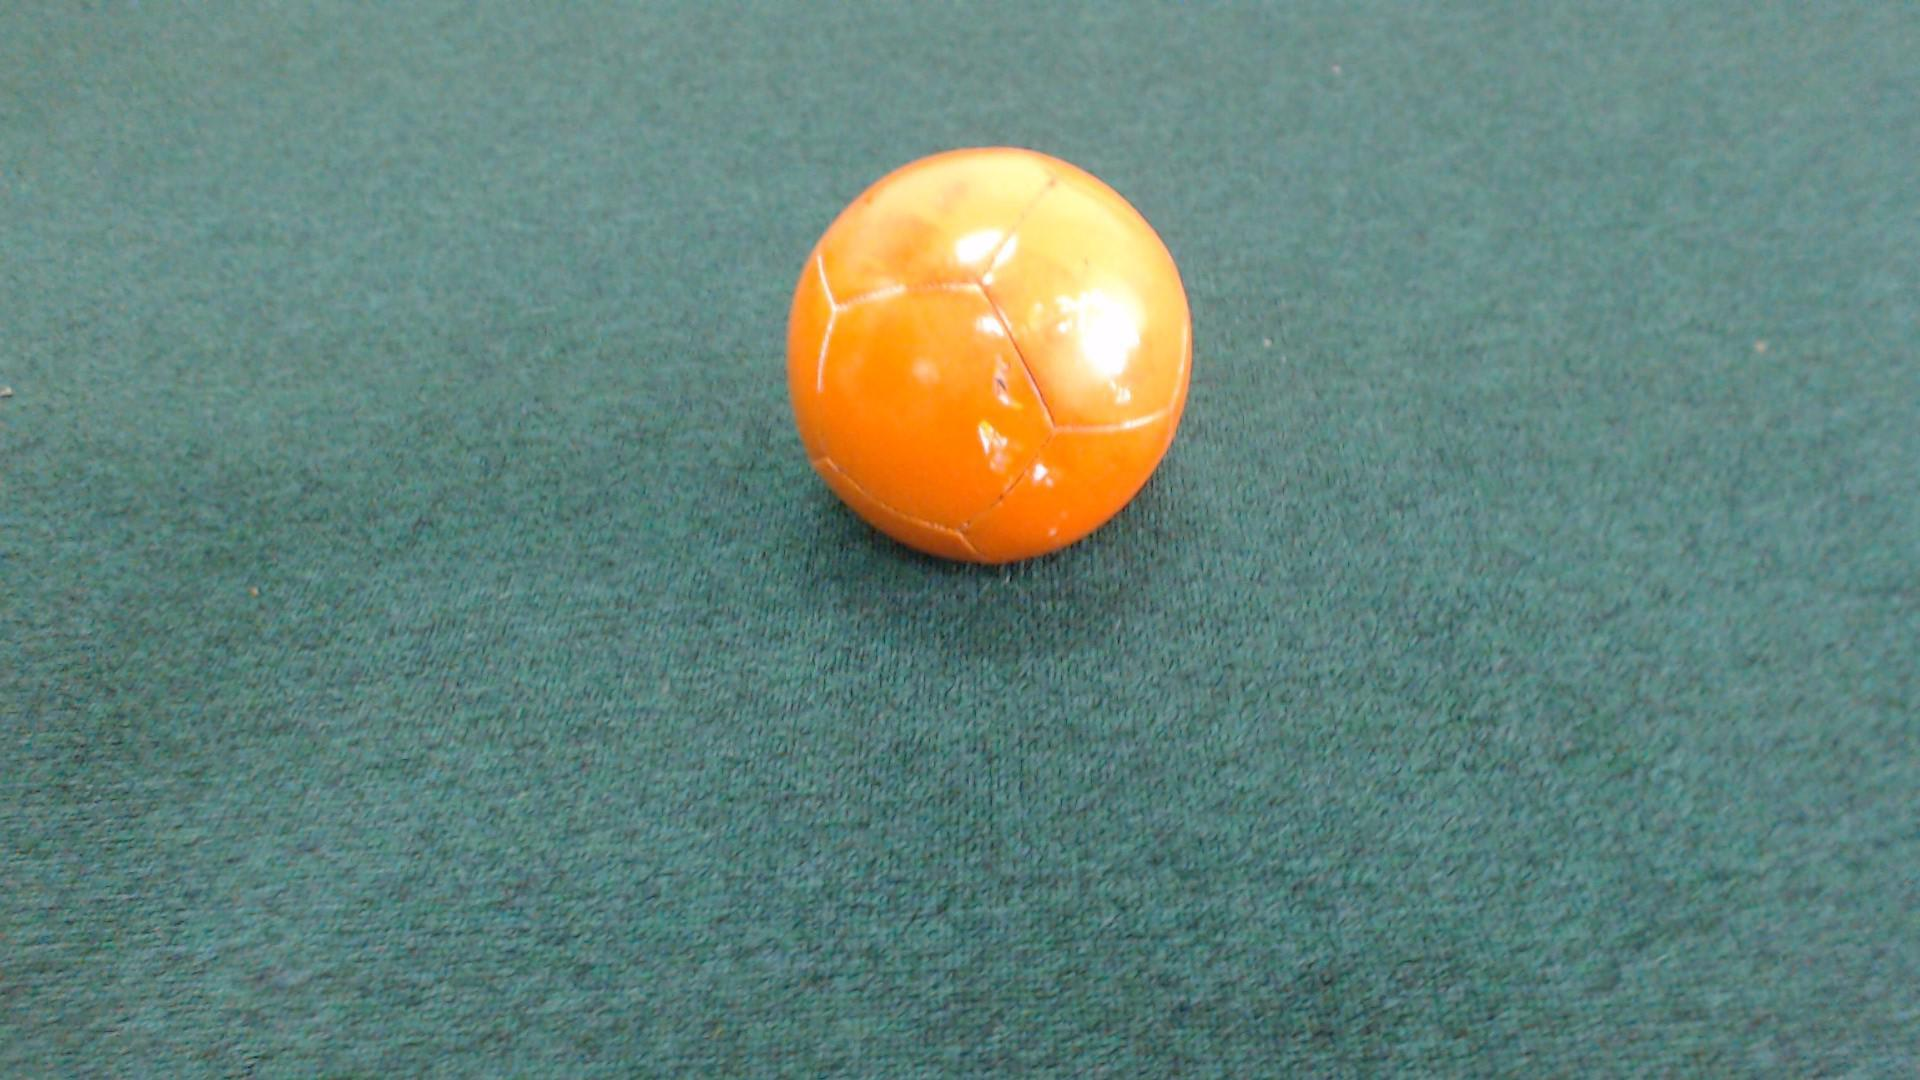bola: (749, 141, 1232, 571)
